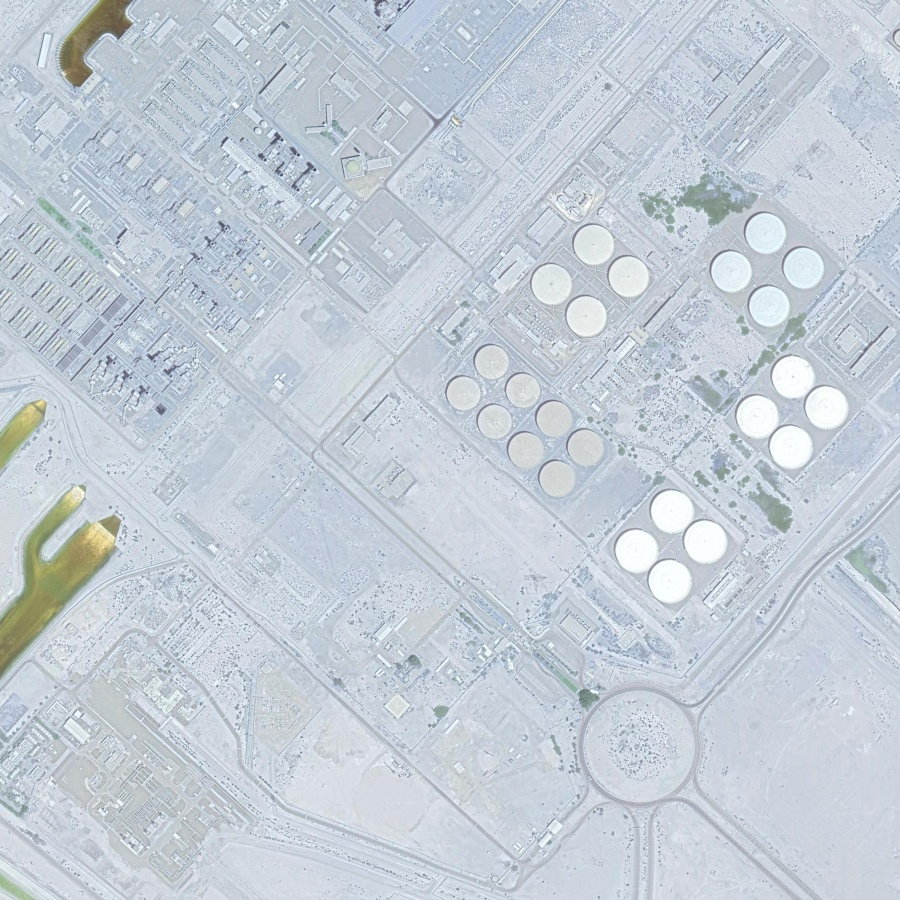PowerPlant: (436, 163, 886, 623)
